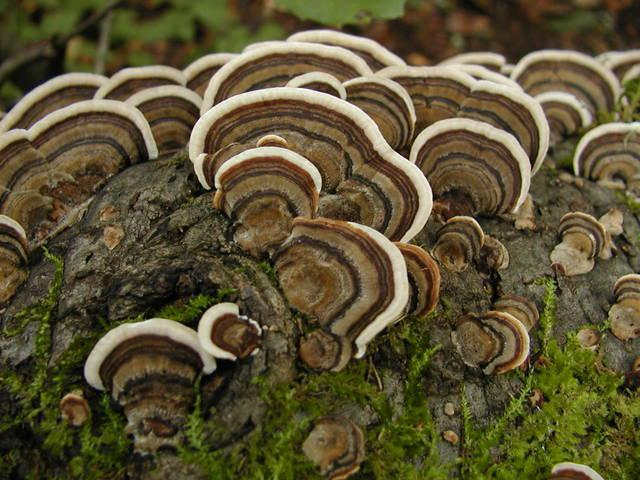poisonous_mushroom: (0, 35, 640, 250), (82, 300, 262, 459), (269, 215, 412, 373), (436, 279, 523, 373), (568, 257, 640, 338), (536, 423, 611, 480), (301, 415, 371, 472)
